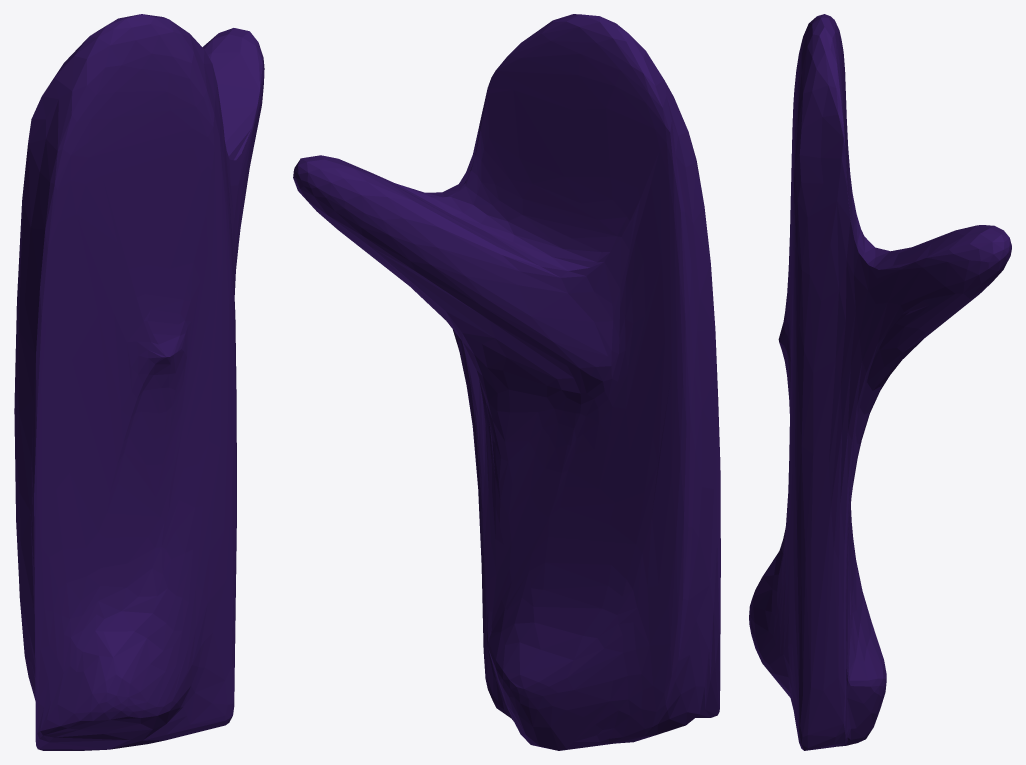
The picture shows the model from 3 angles, left to right: view 1: azimuth 30°, elevation 25°; view 2: azimuth 150°, elevation 25°; view 3: azimuth 270°, elevation 25°; orthographic projection. The views are drawn at different scales.
Visible parts, largest first — view 1: 932_Cube.3767; view 2: 932_Cube.3767; view 3: 932_Cube.3767.
Boxes of the visible parts, box(x1,y1,x2,y2) form: 932_Cube.3767: box(14, 14, 264, 750); 932_Cube.3767: box(293, 14, 720, 750); 932_Cube.3767: box(749, 14, 1011, 750).
Size of the model in its own units: 5.45 by 11.65 by 3.97.
